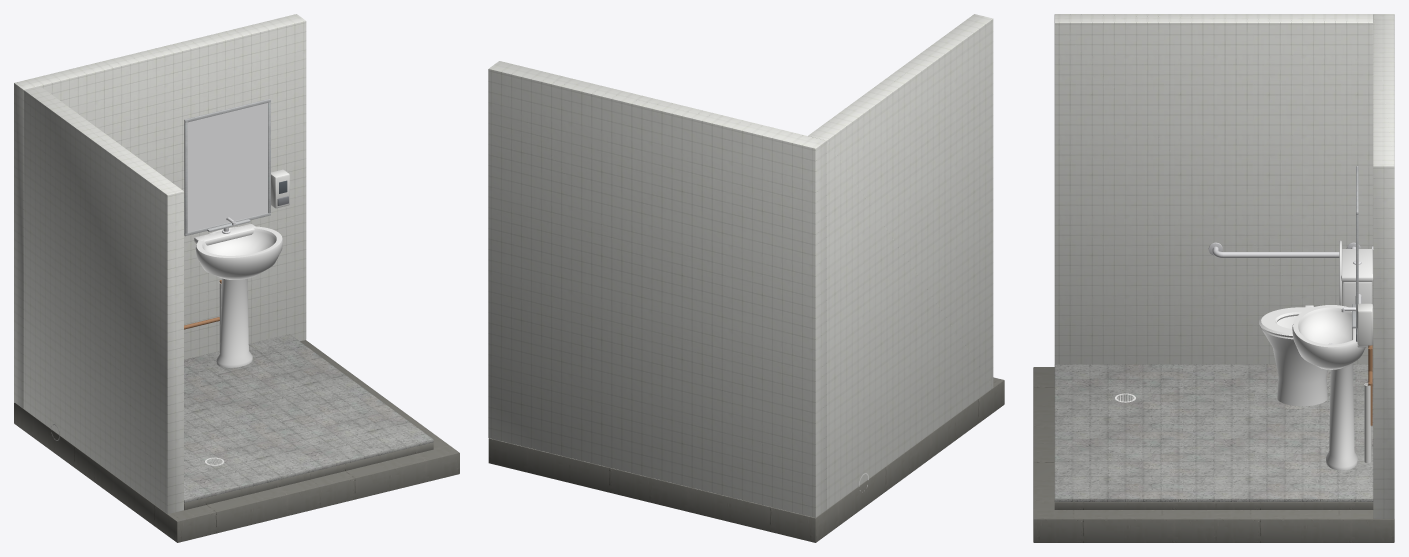
Rendered from KIT-HID-02_lod1.glb.
The picture shows the model from 3 angles, left to right: view 1: azimuth 30°, elevation 25°; view 2: azimuth 150°, elevation 25°; view 3: azimuth 270°, elevation 25°; orthographic projection. The views are drawn at different scales.
Parts seen in each view (by area): view 1: KIT-HID-02_parede_lado, KIT-HID-02_parede_fundo, KIT-HID-02_piso, KIT-HID-02_laje, KIT-HID-02_p3, KIT-HID-02_p2, KIT-HID-02_contrapiso, KIT-HID-02_p4; view 2: KIT-HID-02_parede_fundo, KIT-HID-02_parede_lado, KIT-HID-02_laje; view 3: KIT-HID-02_parede_lado, KIT-HID-02_piso, KIT-HID-02_laje, KIT-HID-02_parede_fundo, KIT-HID-02_p2, KIT-HID-02_p1, KIT-HID-02_contrapiso, KIT-HID-02_p6, KIT-HID-02_p4, KIT-HID-02_esg40_sobe, KIT-HID-02_p3.
Boxes of the visible parts, box(x1,y1,x2,y2) form: KIT-HID-02_parede_lado: box(23, 86, 183, 513); KIT-HID-02_parede_fundo: box(14, 14, 306, 408); KIT-HID-02_piso: box(184, 334, 433, 502); KIT-HID-02_laje: box(14, 340, 459, 542); KIT-HID-02_p3: box(184, 98, 270, 236); KIT-HID-02_p2: box(194, 217, 282, 367); KIT-HID-02_contrapiso: box(184, 442, 433, 510); KIT-HID-02_p4: box(271, 169, 289, 208); KIT-HID-02_parede_fundo: box(488, 61, 826, 517); KIT-HID-02_parede_lado: box(808, 14, 993, 509); KIT-HID-02_laje: box(488, 377, 1004, 542); KIT-HID-02_parede_lado: box(1054, 14, 1373, 364); KIT-HID-02_piso: box(1054, 364, 1373, 501); KIT-HID-02_laje: box(1033, 367, 1394, 542); KIT-HID-02_parede_fundo: box(1373, 14, 1394, 518); KIT-HID-02_p2: box(1292, 305, 1367, 470); KIT-HID-02_p1: box(1258, 240, 1373, 406); KIT-HID-02_contrapiso: box(1054, 502, 1373, 509); KIT-HID-02_p6: box(1208, 242, 1360, 257); KIT-HID-02_p4: box(1356, 303, 1373, 345); KIT-HID-02_esg40_sobe: box(1364, 383, 1371, 462); KIT-HID-02_p3: box(1352, 166, 1373, 328).
Size of the model in its own units: 2.04 by 2.35 by 2.04.
14 materials, 4 textured.
